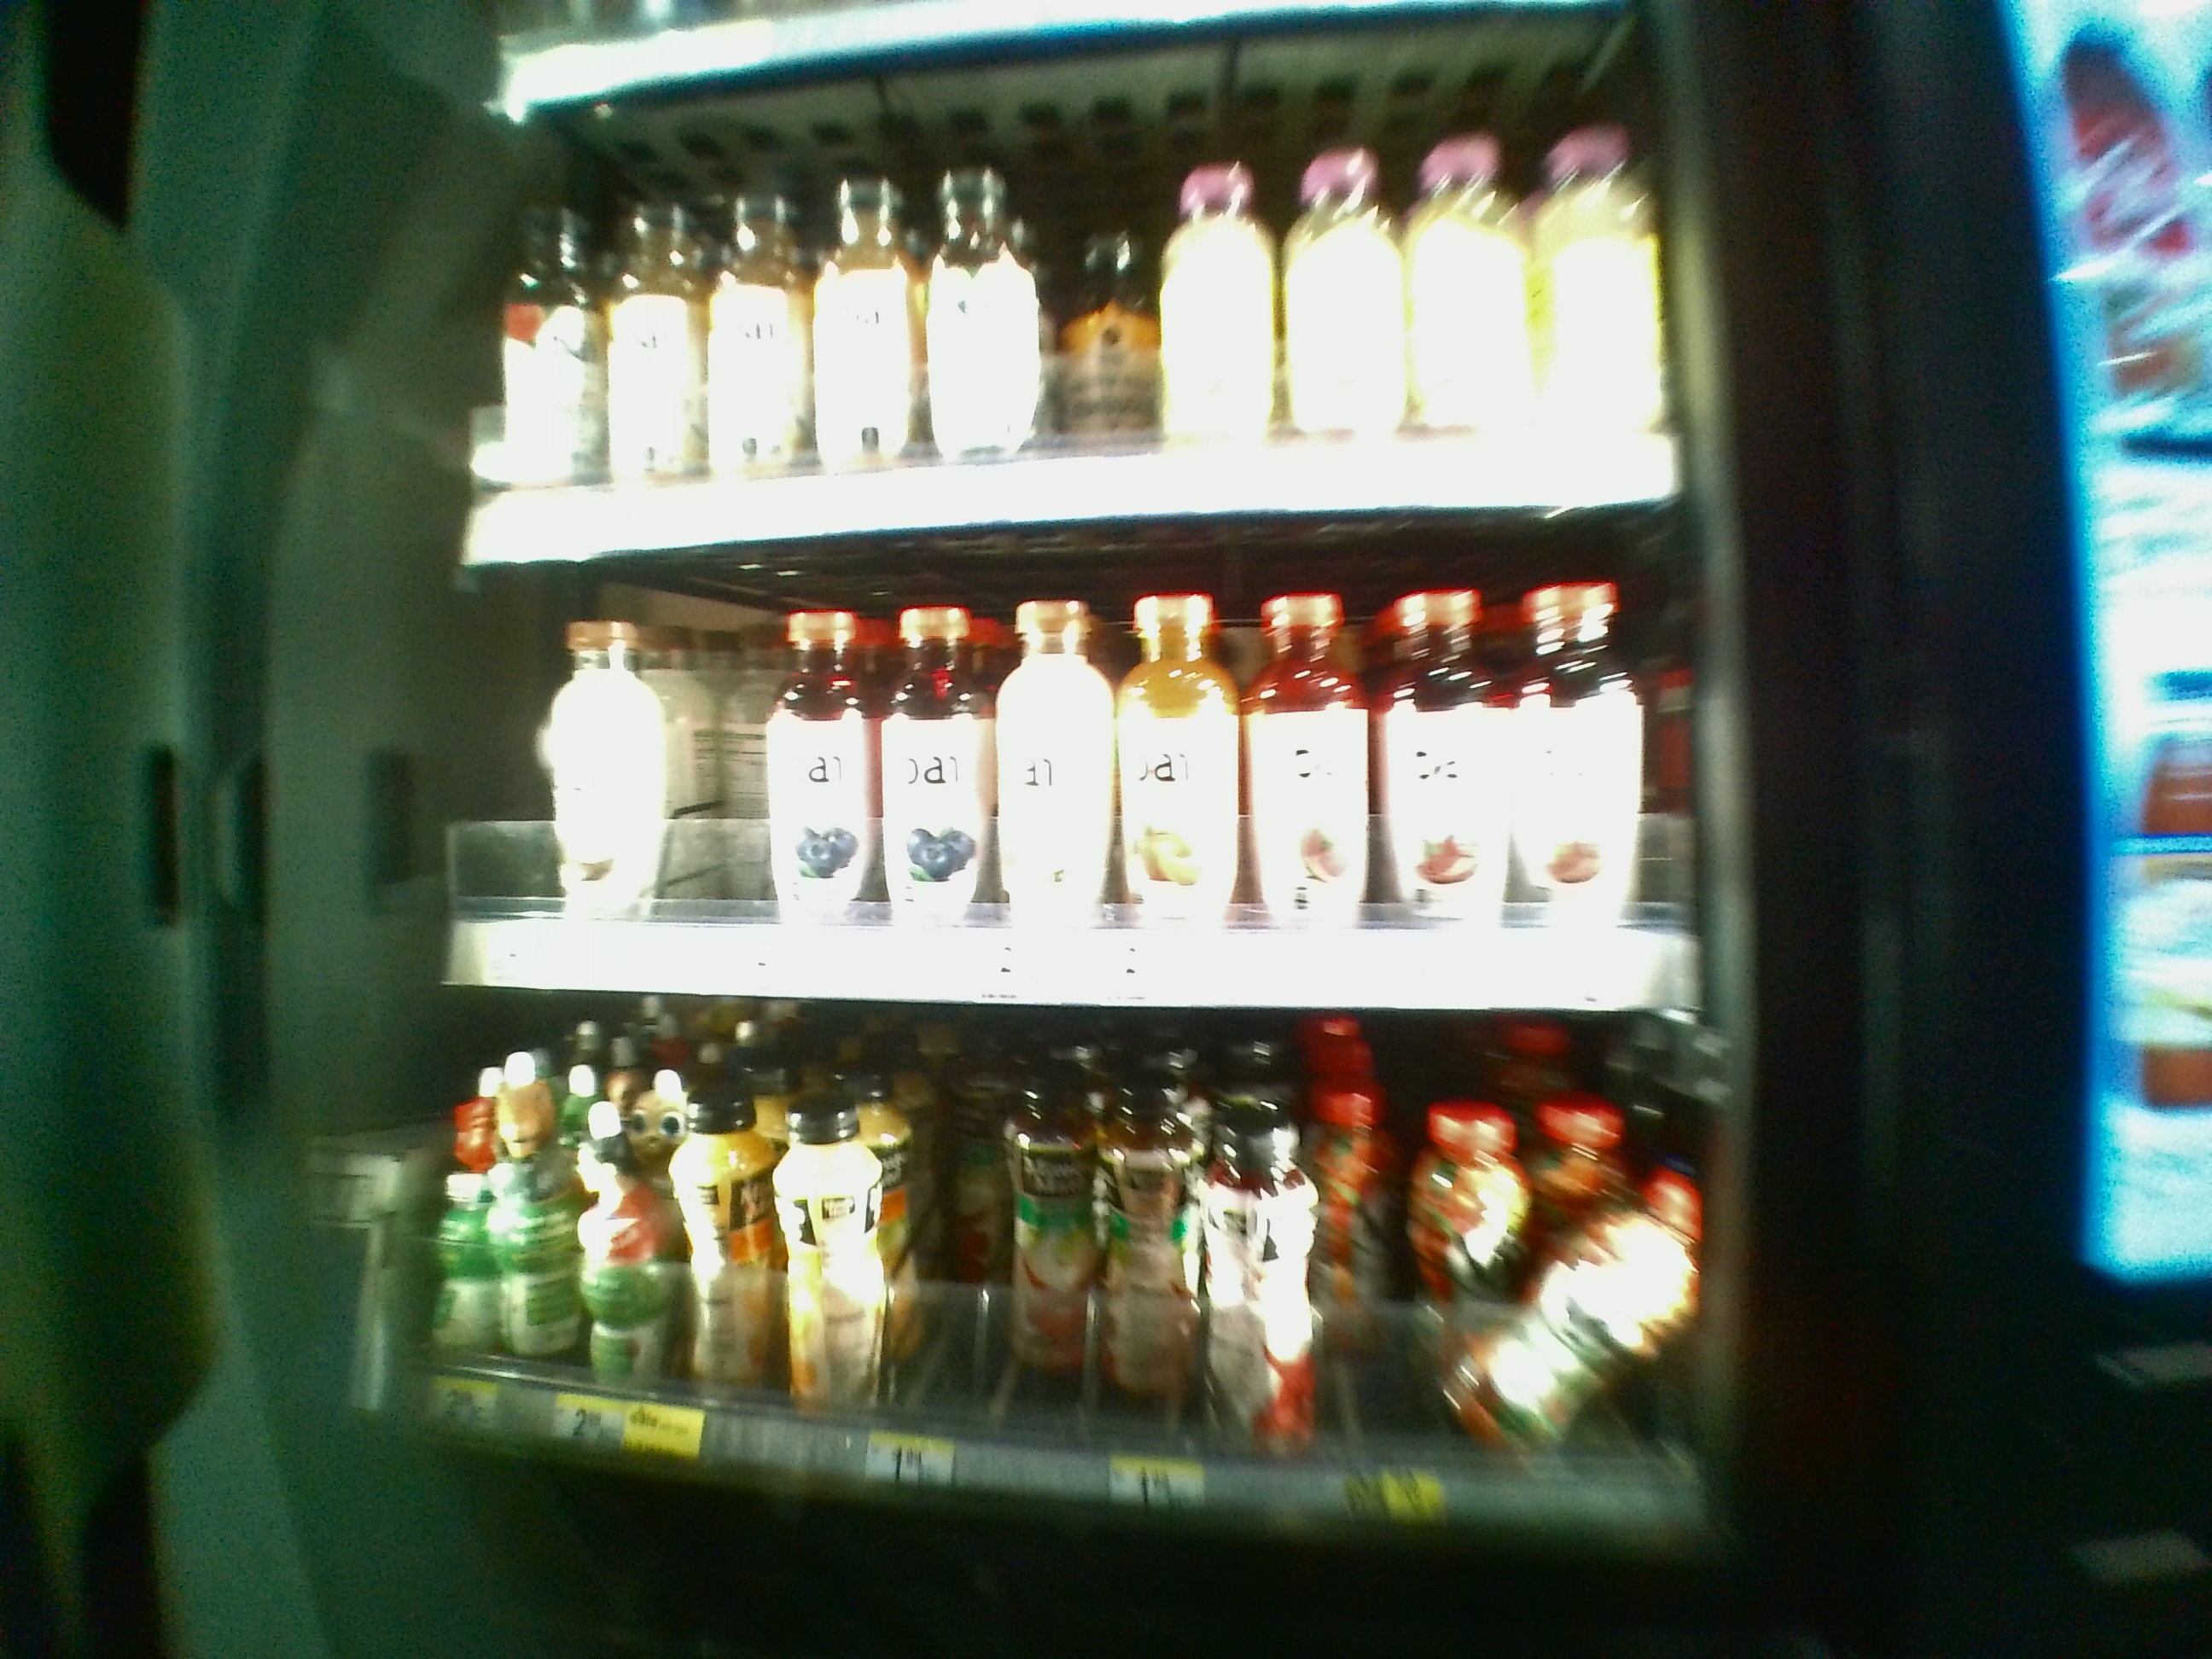shelf: (427, 1025, 1716, 1542), (451, 105, 1679, 566), (444, 580, 1709, 1009)
